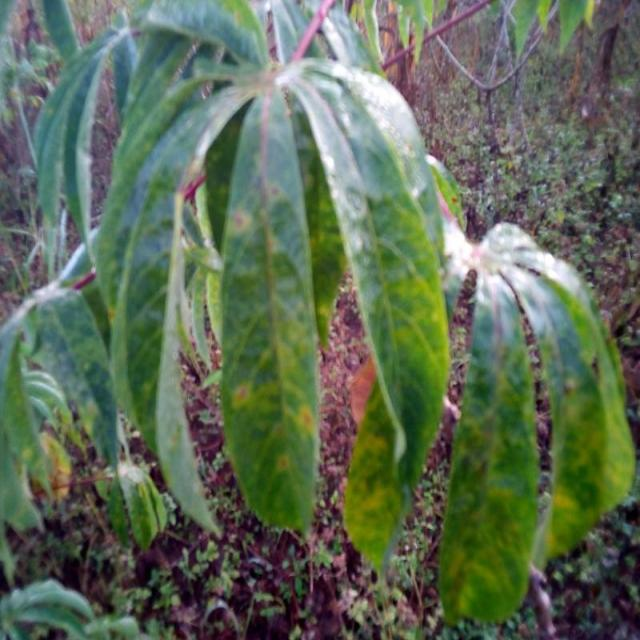cassava leaf: (0, 0, 637, 631), (218, 80, 322, 535)
